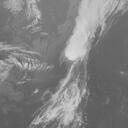cyclone: (51, 41, 92, 105)
